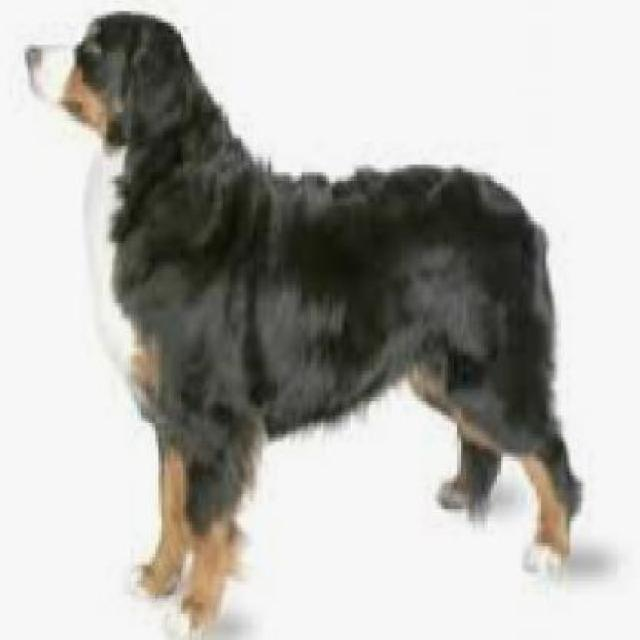Dog: (19, 8, 588, 635)
